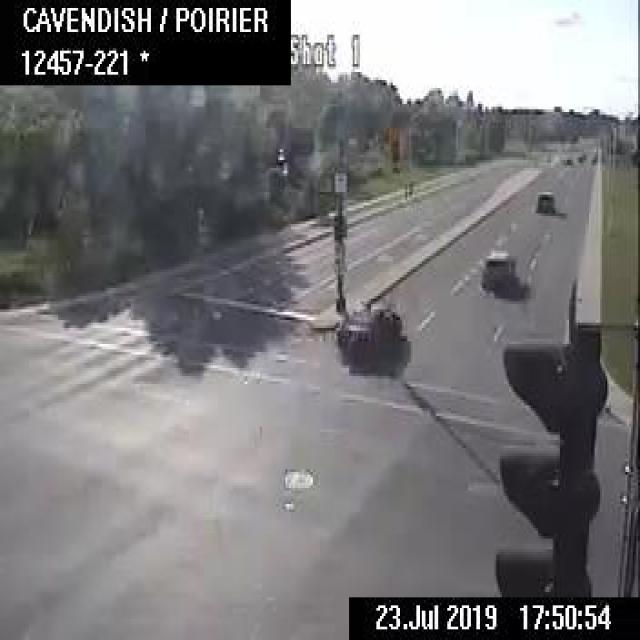vehicle: (334, 303, 402, 355), (482, 245, 511, 283), (534, 190, 554, 211)
